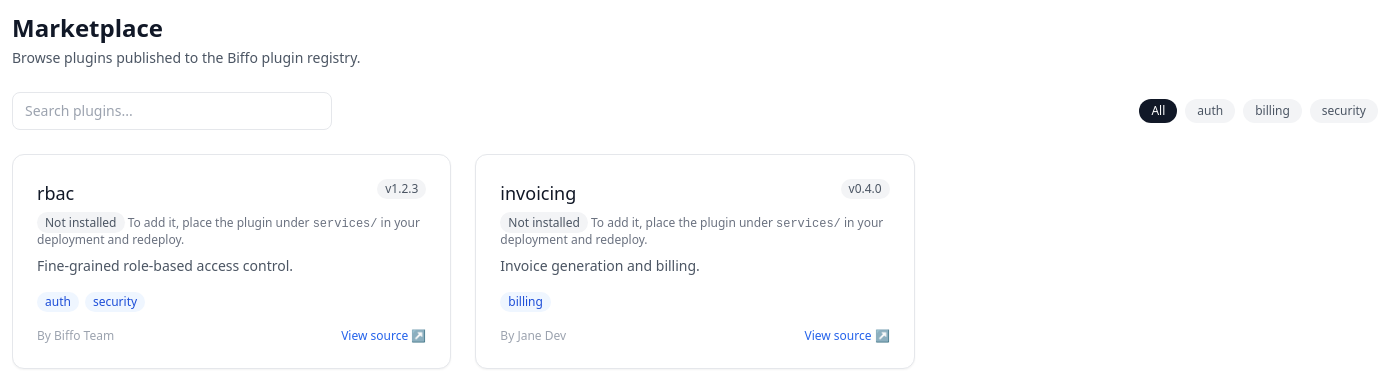
Test: MarketplacePage › filters plugins by tag
Check: the heading "rbac" is shown, box left=37, top=179, right=74, bottom=207
Click the button "billing".
click(1272, 111)  # box left=1243, top=99, right=1302, bottom=123
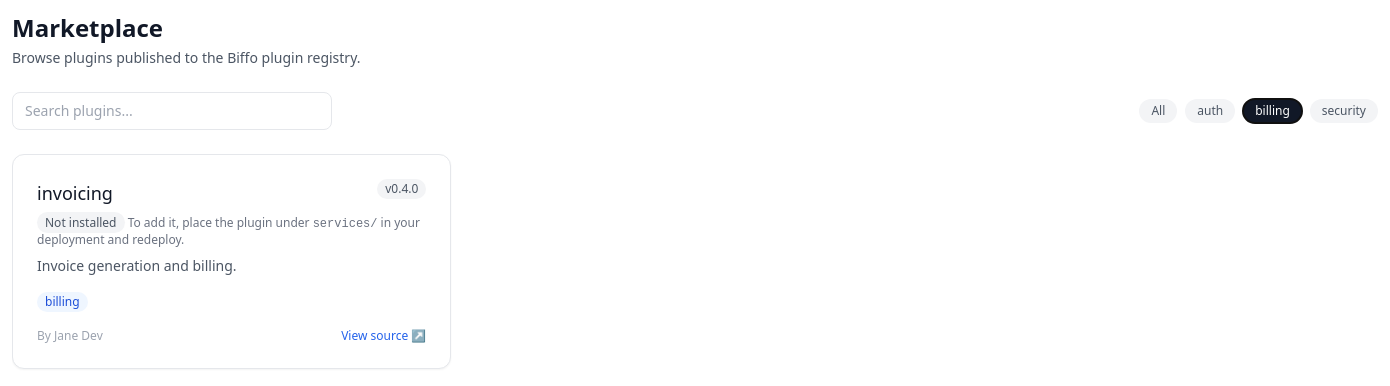
Check: the heading "invoicing" is shown, box left=37, top=179, right=113, bottom=207
Check: the link "rbac" is gone
